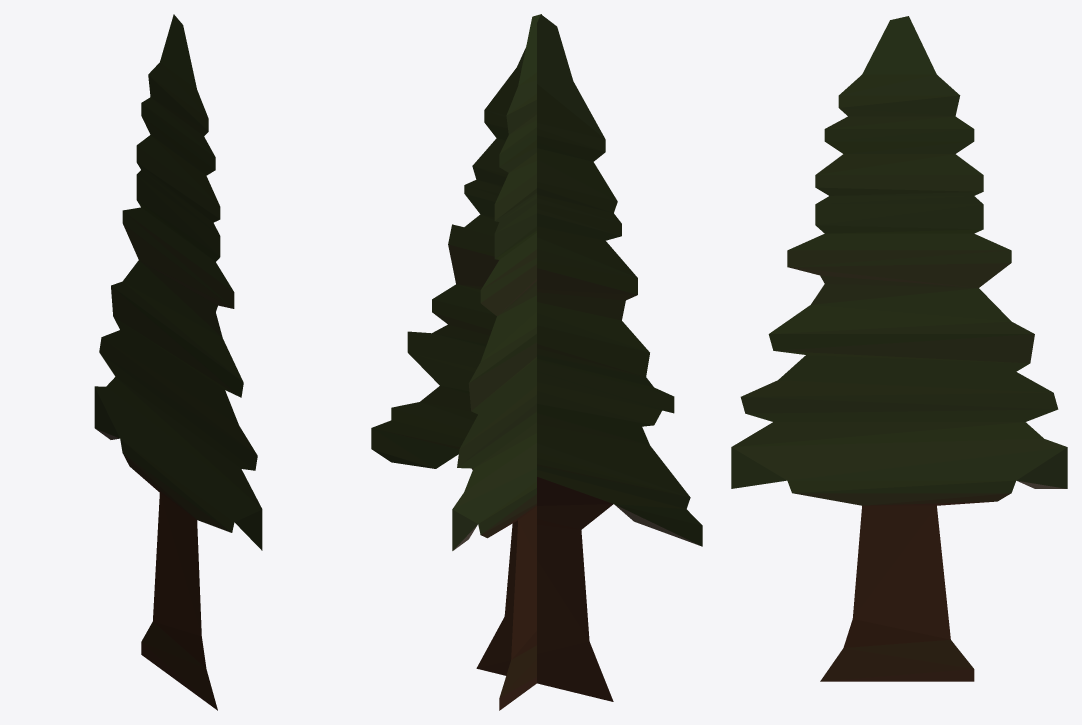
Rendered from bg_forest_pine_4_lod2.glb.
3 renders of one model, left to right at view 1: azimuth 30°, elevation 25°; view 2: azimuth 150°, elevation 25°; view 3: azimuth 270°, elevation 25°, orthographic.
Parts seen in each view (by area): view 1: body; view 2: body; view 3: body.
Boxes of the visible parts, x1=… form: body: x1=94, y1=14, x2=262, y2=710; body: x1=371, y1=14, x2=702, y2=710; body: x1=731, y1=16, x2=1067, y2=681.
Size of the model in its own units: 3.6 by 6.96 by 3.19.
